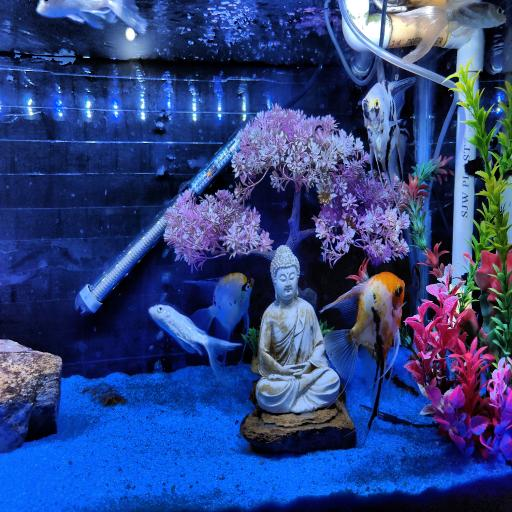Fish: (321, 272, 404, 429), (395, 0, 506, 63), (149, 305, 240, 381), (362, 78, 415, 186), (192, 273, 253, 340), (37, 0, 146, 33)
